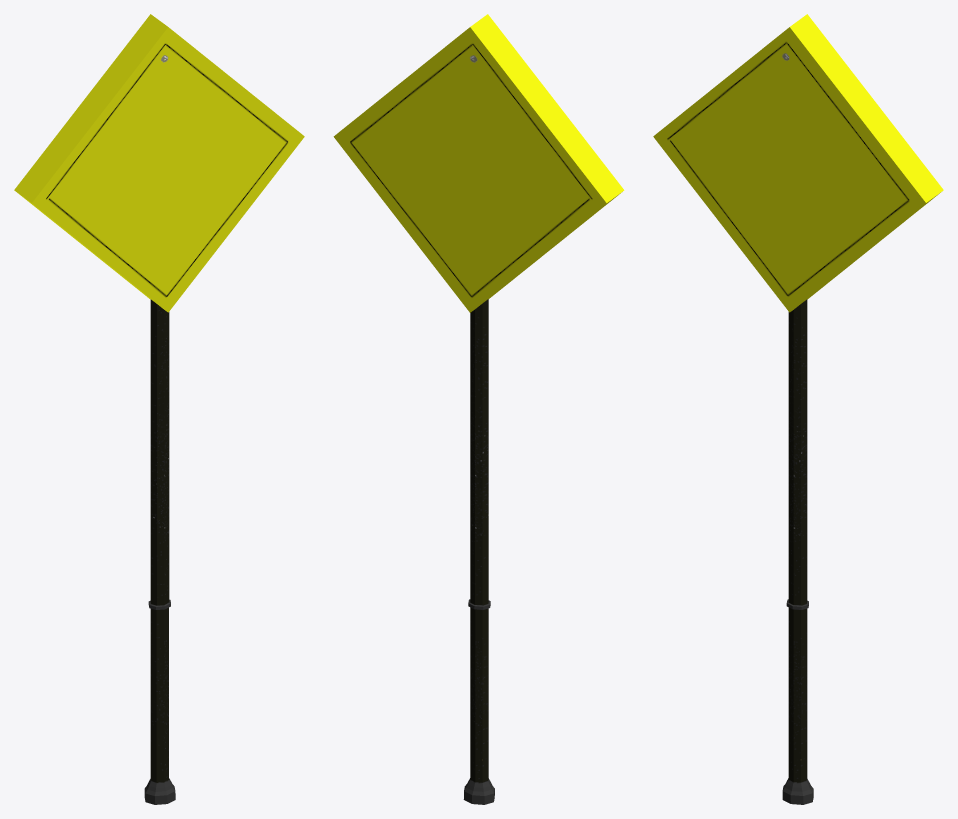
The model's file is PlacaAsset.fbx.
3 renders of one model, left to right at view 1: azimuth 30°, elevation 25°; view 2: azimuth 150°, elevation 25°; view 3: azimuth 330°, elevation 25°, orthographic.
Visible parts, largest first — view 1: Placa; view 2: Placa; view 3: Placa.
Part boxes in pixels (bbox=[...]): Placa: bbox=[14, 14, 304, 804]; Placa: bbox=[333, 14, 624, 804]; Placa: bbox=[653, 14, 943, 804].
Bounding box in the file's own units: 129 × 350 × 14.5.
